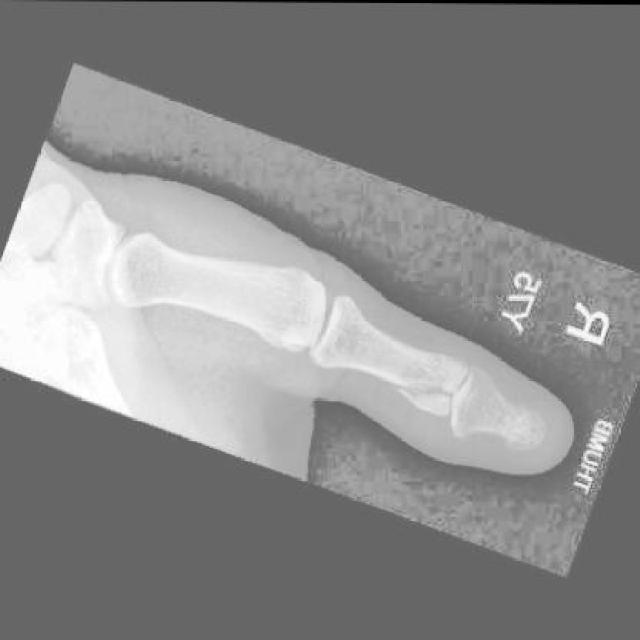Fracture: (399, 366, 465, 433)
